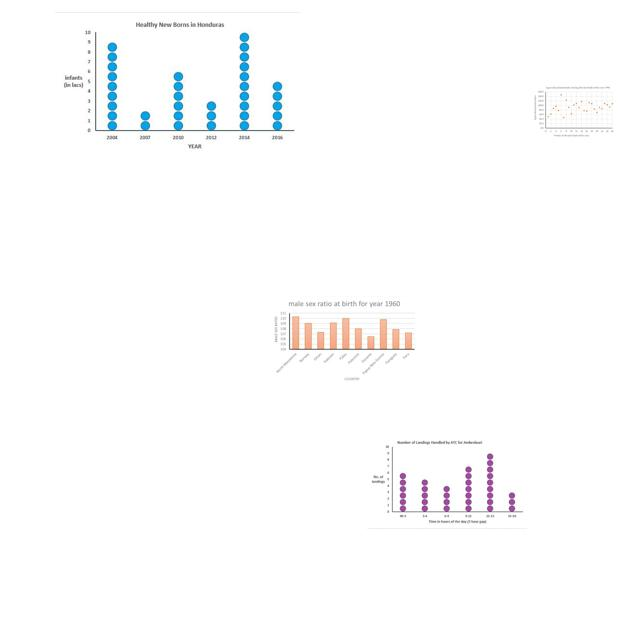Graph: (55, 12, 300, 156), (367, 435, 527, 529), (270, 296, 419, 385), (533, 85, 615, 138)
